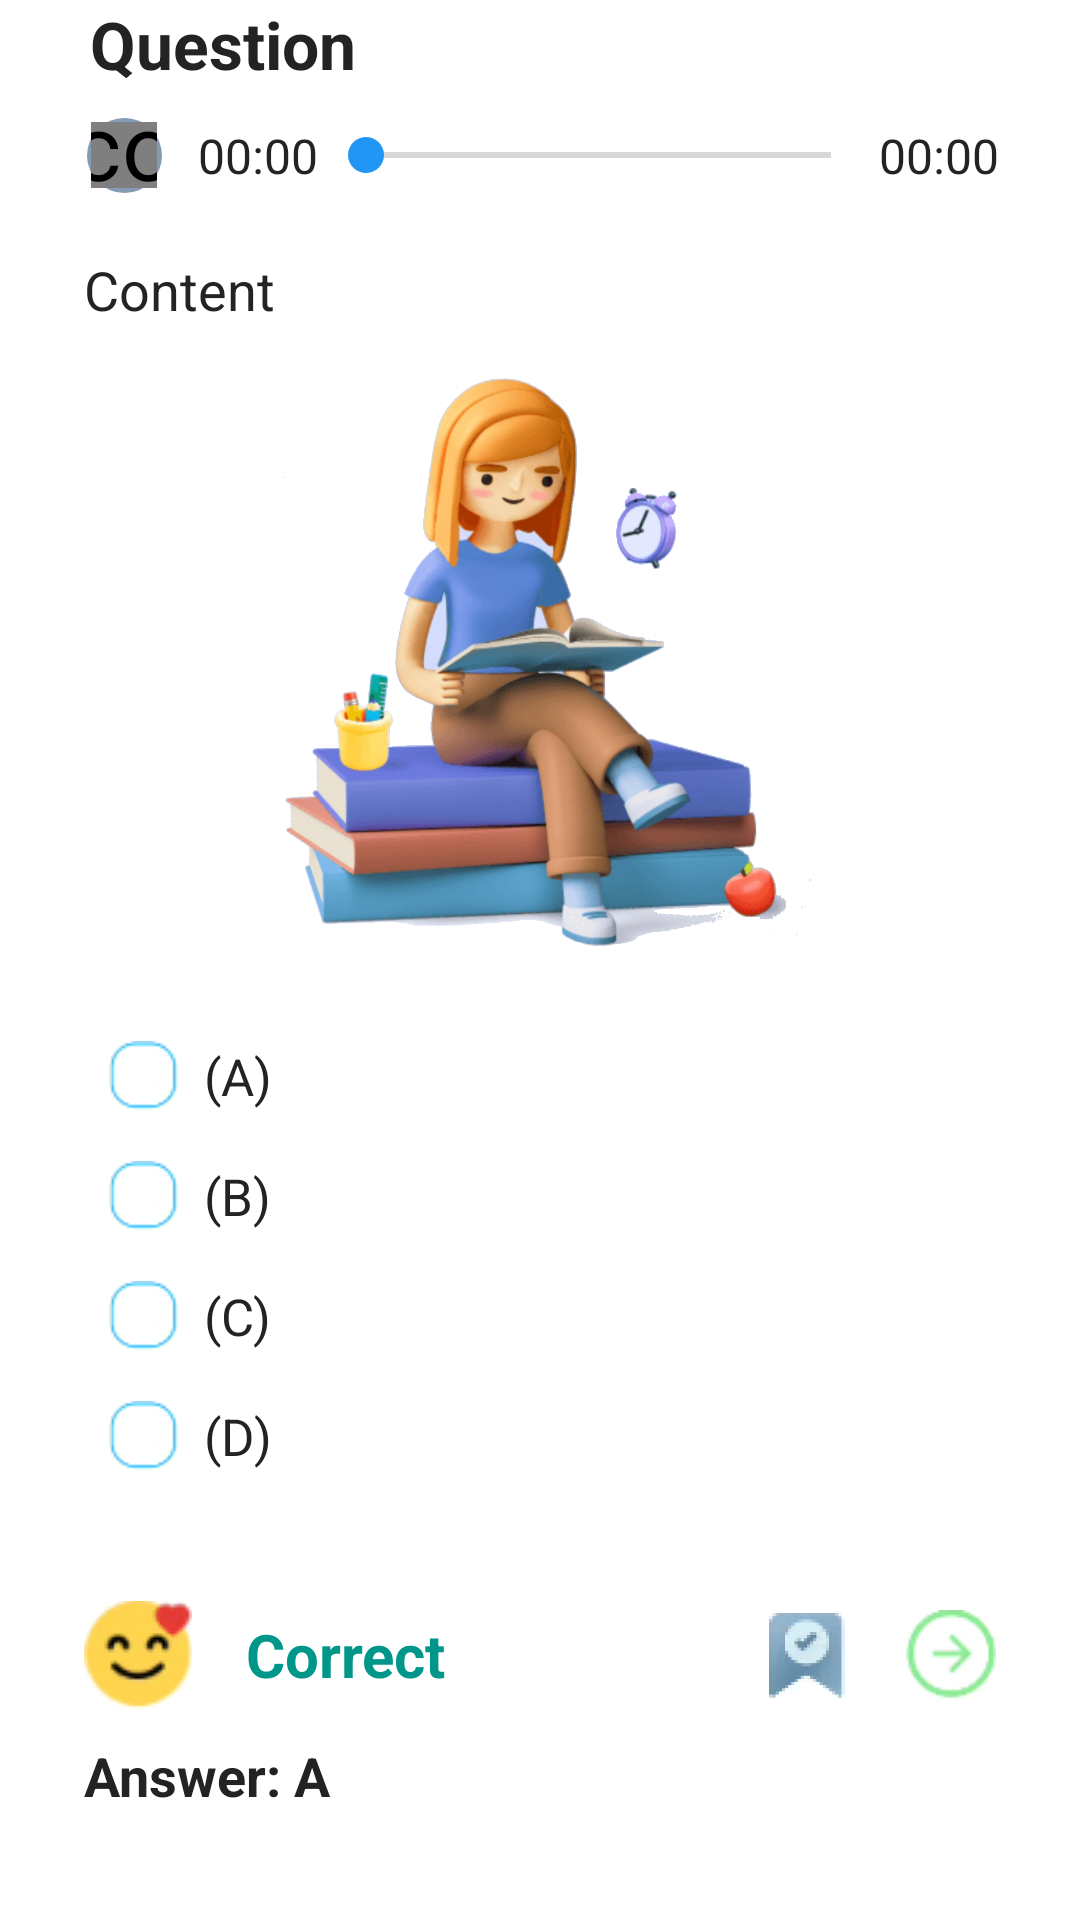

Icons on this 1080w x 1920h Android screen, each with the point to tap as (x,y):
continue: (951,1654)
mark: (807,1655)
